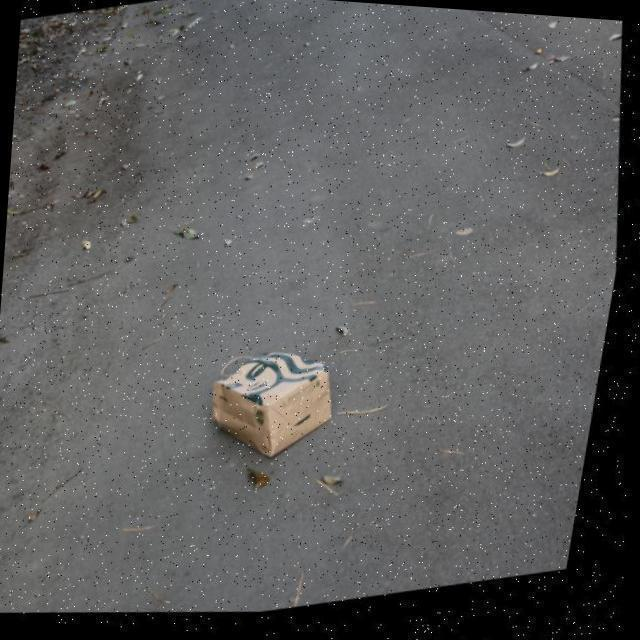Paper_Bag: (205, 340, 355, 480)
